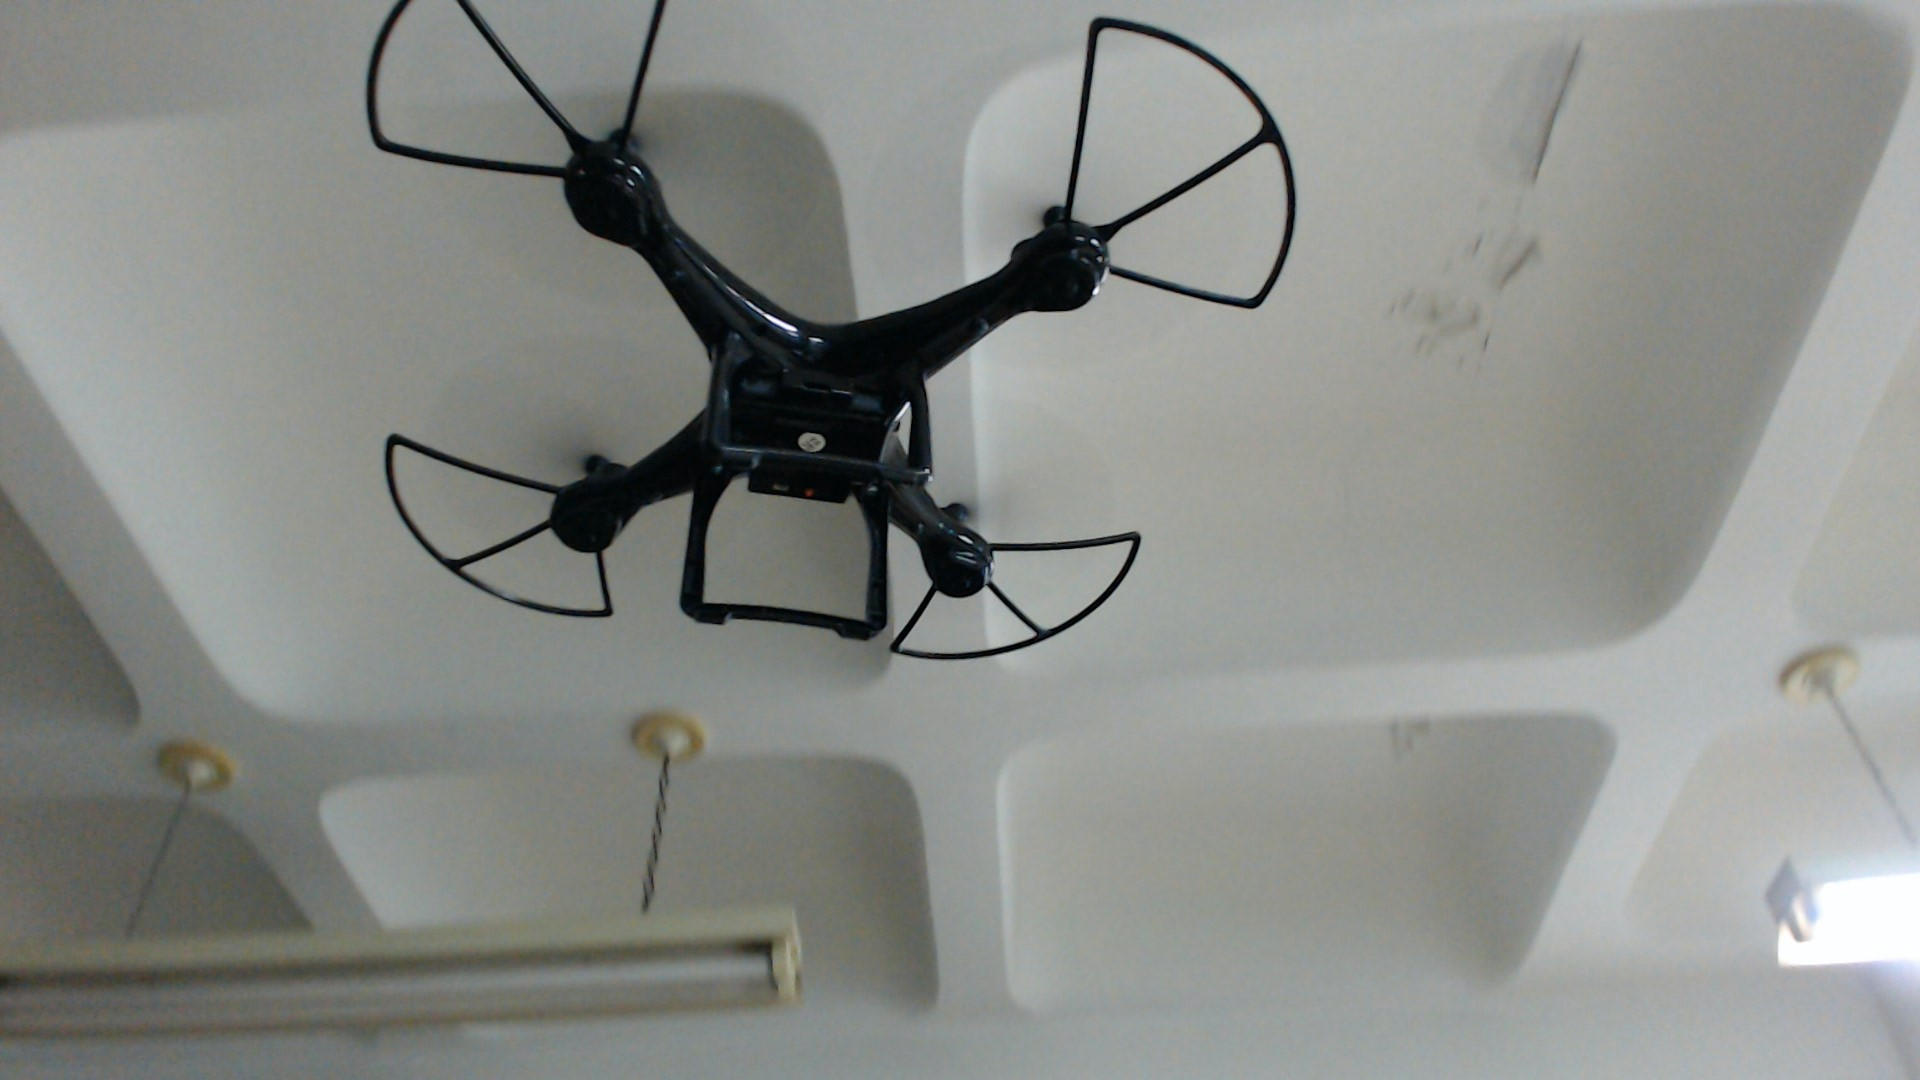drone: (365, 3, 1298, 665)
